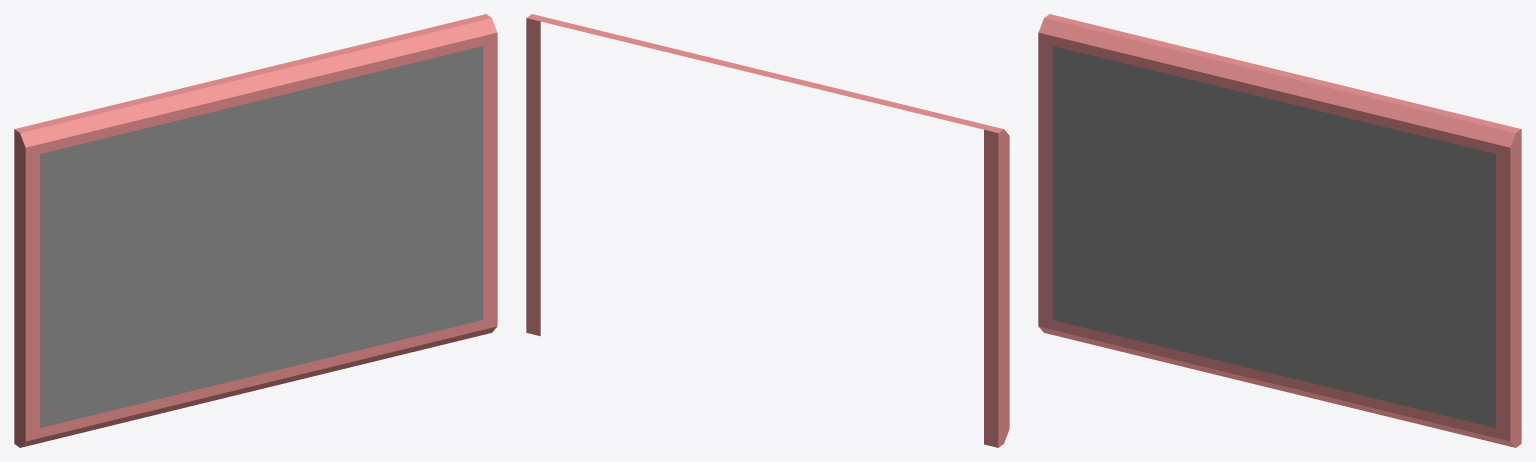
Rendered from S_Envi_Fyz_AD_15k.gltf.
3 views of the same model, side by side, from view 1: azimuth 30°, elevation 25°; view 2: azimuth 150°, elevation 25°; view 3: azimuth 330°, elevation 25° (orthographic).
Parts seen in each view (by area): view 1: S_Envi_Fyz_AD_15k; view 2: S_Envi_Fyz_AD_15k; view 3: S_Envi_Fyz_AD_15k.
Boxes of the visible parts, x1=… form: S_Envi_Fyz_AD_15k: x1=14, y1=14, x2=497, y2=447; S_Envi_Fyz_AD_15k: x1=526, y1=14, x2=1009, y2=447; S_Envi_Fyz_AD_15k: x1=1038, y1=14, x2=1521, y2=447.
Bounding box in the file's own units: 10.11 × 6.44 × 0.4117.
